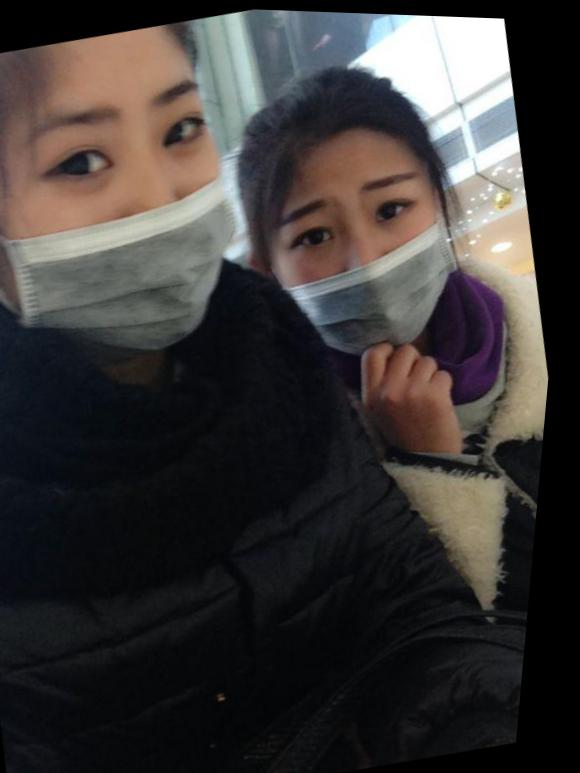WRONG: (1, 63, 274, 381), (262, 136, 478, 365)
